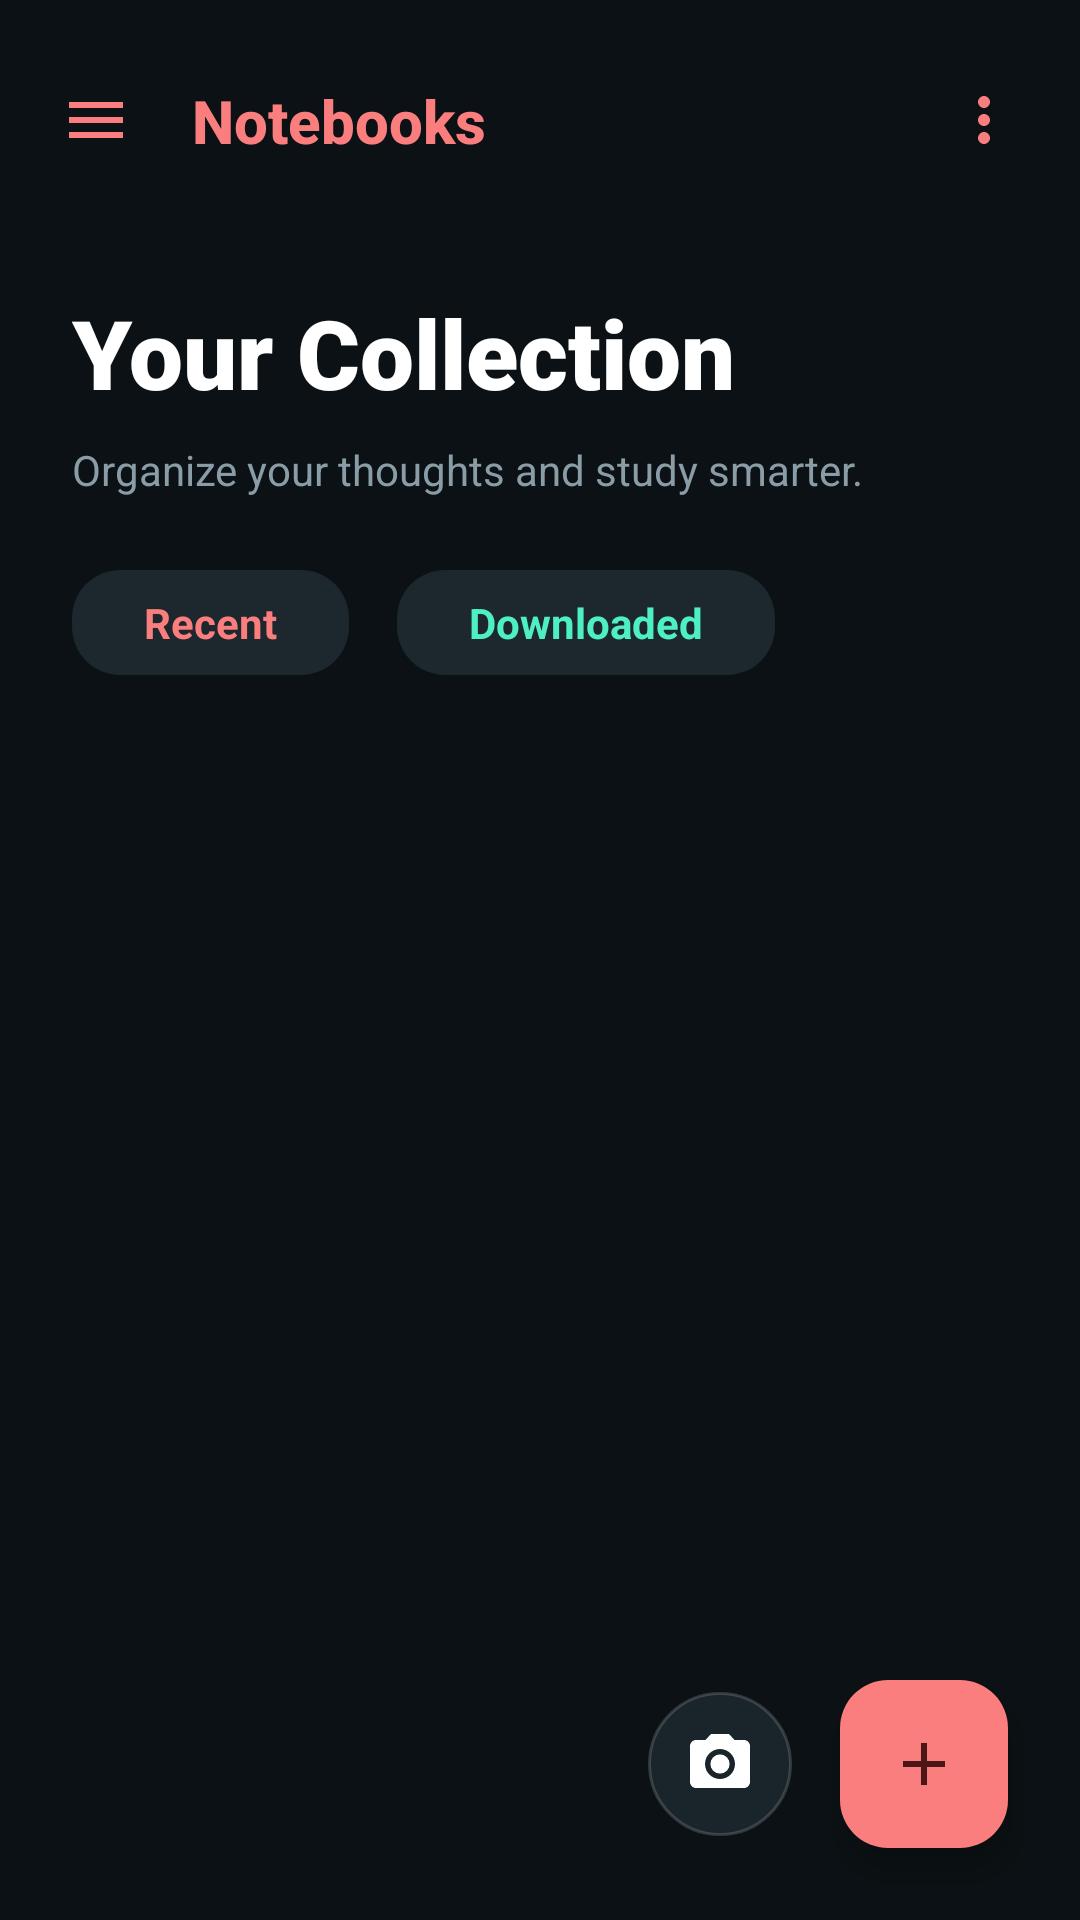

Icons on this 1080px x 1920px Android screen, each with its box as bbox=(x1, y1, x2, y2):
Camera: bbox=(648, 1692, 792, 1836)
Create New: bbox=(840, 1680, 1008, 1848)
menu: bbox=(69, 102, 123, 138)
more vert: bbox=(978, 96, 990, 144)
